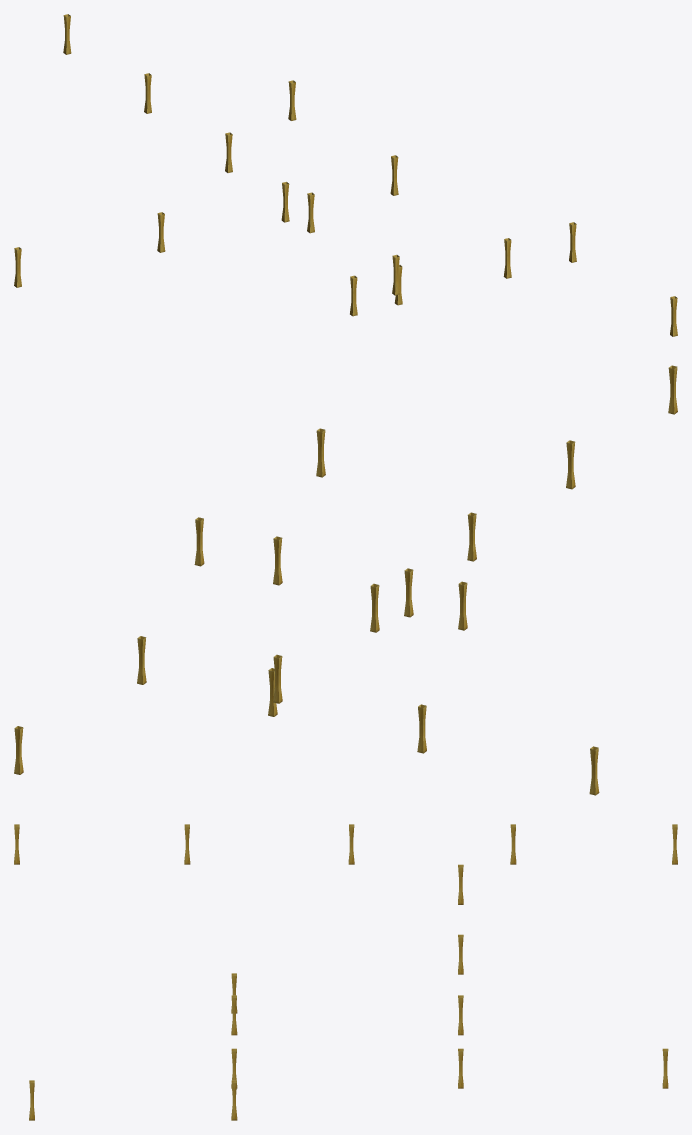
The model's file is HTOWN01_MILLRAILSUPPORTS.fbx.
3 renders of one model, top to bottom at view 1: azimuth 30°, elevation 25°; view 2: azimuth 150°, elevation 25°; view 3: azimuth 270°, elevation 25°, orthographic. The views are drawn at different scales.
Visible parts, largest first — view 1: HTOWN01_MILLRAILSUPPORTS; view 2: HTOWN01_MILLRAILSUPPORTS; view 3: HTOWN01_MILLRAILSUPPORTS.
Part boxes in pixels (bbox=[...]): HTOWN01_MILLRAILSUPPORTS: bbox=[14, 14, 677, 336]; HTOWN01_MILLRAILSUPPORTS: bbox=[14, 365, 677, 795]; HTOWN01_MILLRAILSUPPORTS: bbox=[14, 824, 677, 1120].
Bounding box in the file's own units: 97354 × 32106 × 125200.
1 material, 1 textured.
